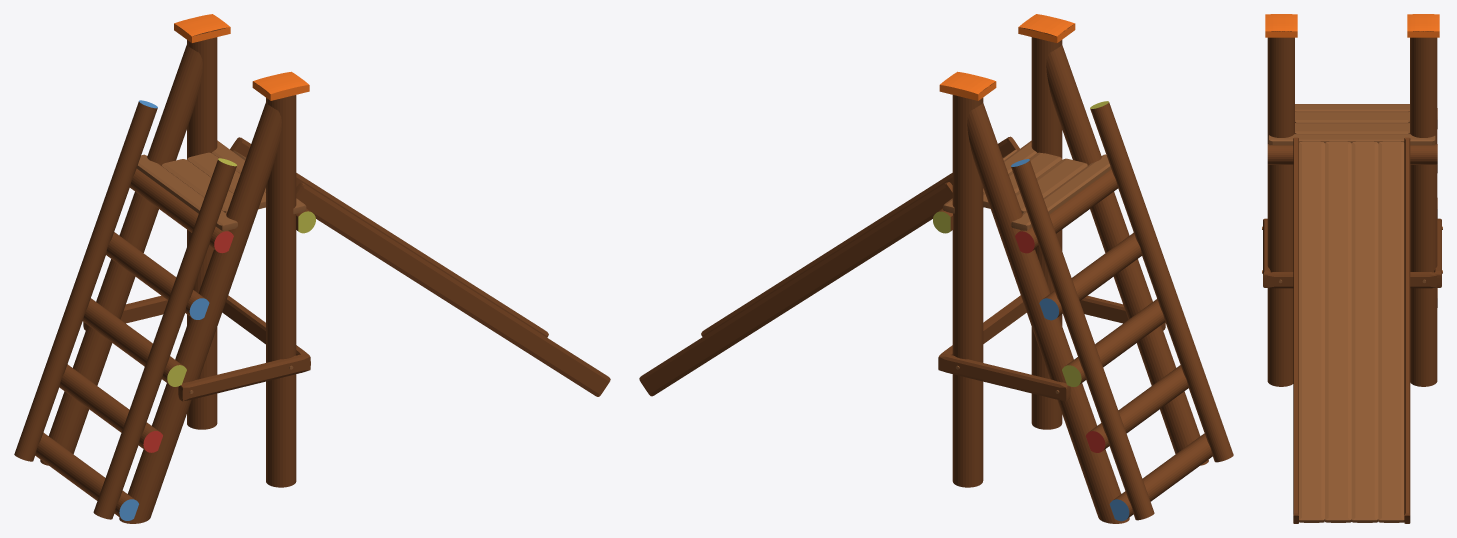
The model's file is escorrega.fbx.
3 renders of one model, left to right at view 1: azimuth 30°, elevation 25°; view 2: azimuth 150°, elevation 25°; view 3: azimuth 270°, elevation 25°, orthographic. The views are drawn at different scales.
Parts seen in each view (by area): view 1: mod escorrega; view 2: mod escorrega; view 3: mod escorrega.
Part boxes in pixels (left/top/right/bottom): mod escorrega: left=14, top=14, right=610, bottom=523; mod escorrega: left=639, top=14, right=1233, bottom=523; mod escorrega: left=1262, top=14, right=1442, bottom=523.
Size of the model in its own units: 319 by 234 by 106.
